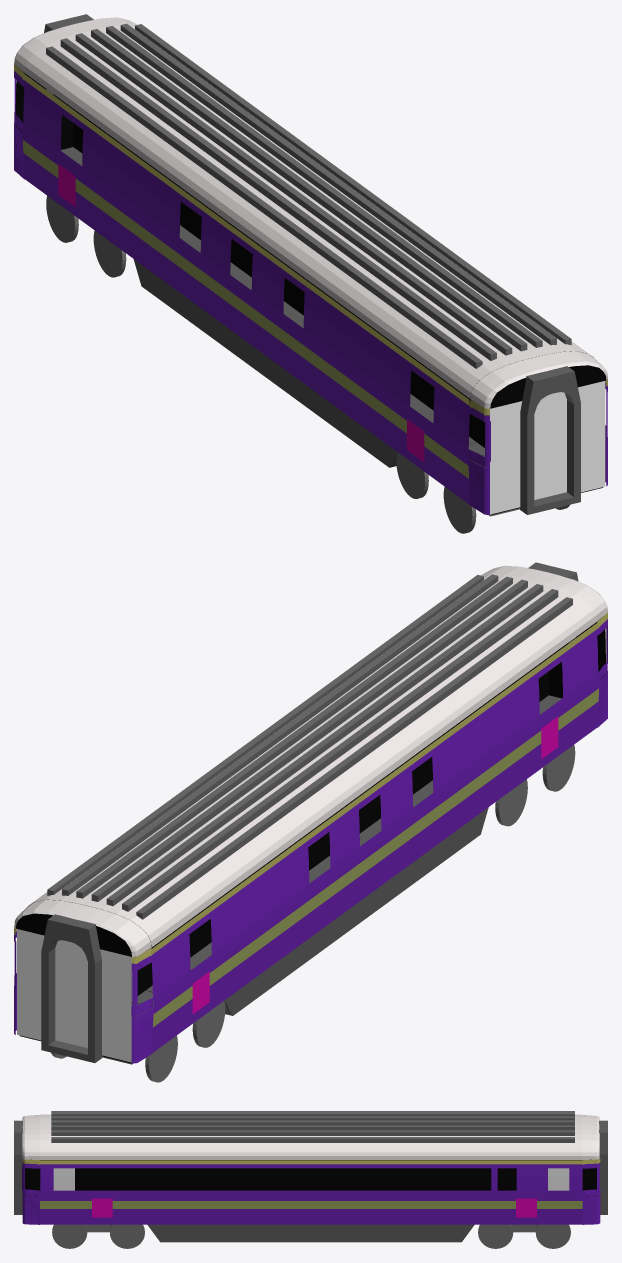
The model's file is br-mk3-sle-fgw2.dae.
The picture shows the model from 3 angles, top to bottom: view 1: azimuth 30°, elevation 25°; view 2: azimuth 150°, elevation 25°; view 3: azimuth 270°, elevation 25°; orthographic projection. The views are drawn at different scales.
Parts seen in each view (by area): view 1: Suzanne_001, Plane_007, Plane_001, Cube_010, Cube, Cube_011, Cube_008, Cube_009, Cube_004, Cube_002, Tube_003, Plane_044 (+20 smaller); view 2: Suzanne_001, Plane_007, Plane_100, Cube, Cube_010, Cube_011, Cube_008, Cube_009, Cube_004, Cube_002, Tube_002, Plane_044 (+20 smaller); view 3: Plane_134, Suzanne_001, Plane_041, Cube, Plane_111, Plane_039, Cube_002, Cube_003, Cube_004, Cube_008, Plane_135, Plane_136 (+23 smaller).
Part boxes in pixels (x1=…): Suzanne_001: x1=24, y1=24, x2=593, y2=398; Plane_007: x1=23, y1=140, x2=470, y2=504; Plane_001: x1=490, y1=381, x2=605, y2=514; Cube_010: x1=60, y1=38, x2=496, y2=360; Cube: x1=133, y1=259, x2=396, y2=467; Cube_011: x1=46, y1=46, x2=482, y2=368; Cube_008: x1=91, y1=29, x2=527, y2=351; Cube_009: x1=75, y1=33, x2=512, y2=355; Cube_004: x1=106, y1=26, x2=542, y2=347; Cube_002: x1=120, y1=23, x2=556, y2=345; Tube_003: x1=520, y1=366, x2=580, y2=514; Plane_044: x1=22, y1=123, x2=468, y2=459; Suzanne_001: x1=28, y1=573, x2=596, y2=947; Plane_007: x1=151, y1=688, x2=598, y2=1053; Plane_100: x1=17, y1=929, x2=132, y2=1062; Cube: x1=224, y1=807, x2=488, y2=1015; Cube_010: x1=122, y1=589, x2=558, y2=911; Cube_011: x1=136, y1=597, x2=572, y2=919; Cube_008: x1=91, y1=579, x2=527, y2=901; Cube_009: x1=106, y1=584, x2=543, y2=906; Cube_004: x1=76, y1=576, x2=512, y2=898; Cube_002: x1=62, y1=574, x2=498, y2=895; Tube_002: x1=41, y1=914, x2=102, y2=1062; Plane_044: x1=153, y1=671, x2=599, y2=1007; Plane_134: x1=40, y1=1201, x2=582, y2=1224; Suzanne_001: x1=40, y1=1114, x2=582, y2=1159; Plane_041: x1=246, y1=1159, x2=596, y2=1196; Cube: x1=147, y1=1224, x2=474, y2=1242; Plane_111: x1=25, y1=1159, x2=247, y2=1196; Plane_039: x1=39, y1=1190, x2=582, y2=1196; Cube_002: x1=51, y1=1130, x2=574, y2=1135; Cube_003: x1=51, y1=1137, x2=574, y2=1142; Cube_004: x1=51, y1=1125, x2=574, y2=1130; Cube_008: x1=51, y1=1120, x2=574, y2=1125; Plane_135: x1=40, y1=1160, x2=584, y2=1164; Plane_136: x1=40, y1=1164, x2=582, y2=1168.
Size of the model in its own units: 2.1 by 13.39 by 2.81.
